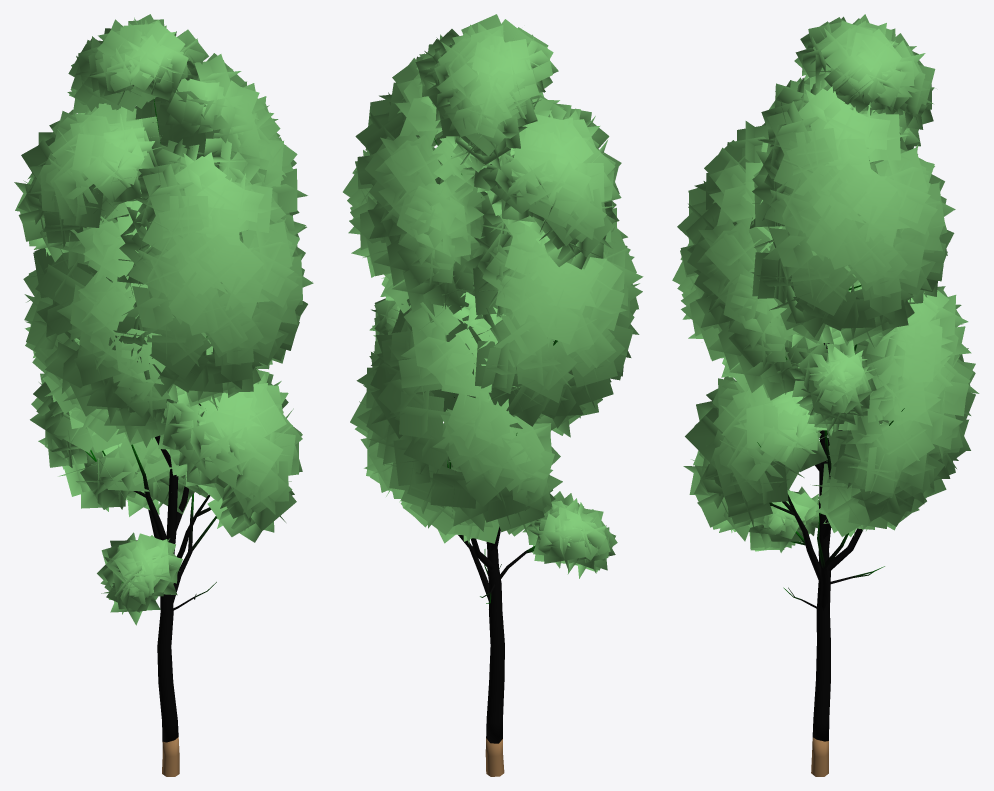
Rendered from BirchTree_Destroyed.fbx.
3 views of the same model, side by side, from view 1: azimuth 30°, elevation 25°; view 2: azimuth 150°, elevation 25°; view 3: azimuth 270°, elevation 25° (orthographic). The views are drawn at different scales.
Visible parts, largest first — view 1: IL3DN_Tree_Birch_03_Leaves_LOD0, IL3DN_Tree_Birch_03_Branch_LOG_LOD0, IL3DN_Tree_Birch_03_Branch_STUMP_LOD0; view 2: IL3DN_Tree_Birch_03_Leaves_LOD0, IL3DN_Tree_Birch_03_Branch_LOG_LOD0, IL3DN_Tree_Birch_03_Branch_STUMP_LOD0; view 3: IL3DN_Tree_Birch_03_Leaves_LOD0, IL3DN_Tree_Birch_03_Branch_LOG_LOD0, IL3DN_Tree_Birch_03_Branch_STUMP_LOD0.
Boxes of the visible parts, box(x1,y1,x2,y2) form: IL3DN_Tree_Birch_03_Leaves_LOD0: box(14, 14, 313, 625); IL3DN_Tree_Birch_03_Branch_LOG_LOD0: box(85, 99, 216, 742); IL3DN_Tree_Birch_03_Branch_STUMP_LOD0: box(162, 737, 179, 776); IL3DN_Tree_Birch_03_Leaves_LOD0: box(343, 14, 643, 578); IL3DN_Tree_Birch_03_Branch_LOG_LOD0: box(434, 138, 557, 743); IL3DN_Tree_Birch_03_Branch_STUMP_LOD0: box(485, 738, 504, 776); IL3DN_Tree_Birch_03_Leaves_LOD0: box(672, 14, 979, 552); IL3DN_Tree_Birch_03_Branch_LOG_LOD0: box(757, 160, 904, 741); IL3DN_Tree_Birch_03_Branch_STUMP_LOD0: box(811, 737, 828, 776).
Bounding box in the file's own units: 356 × 982 × 366.
